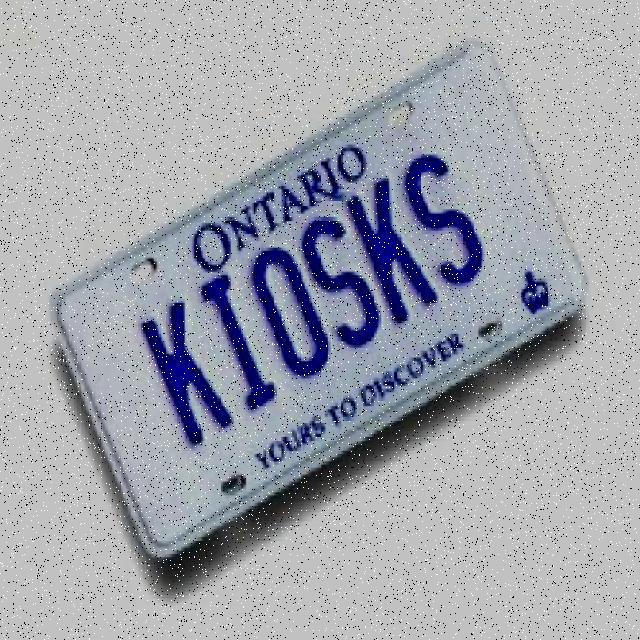licenseplate: (80, 144, 491, 456)
